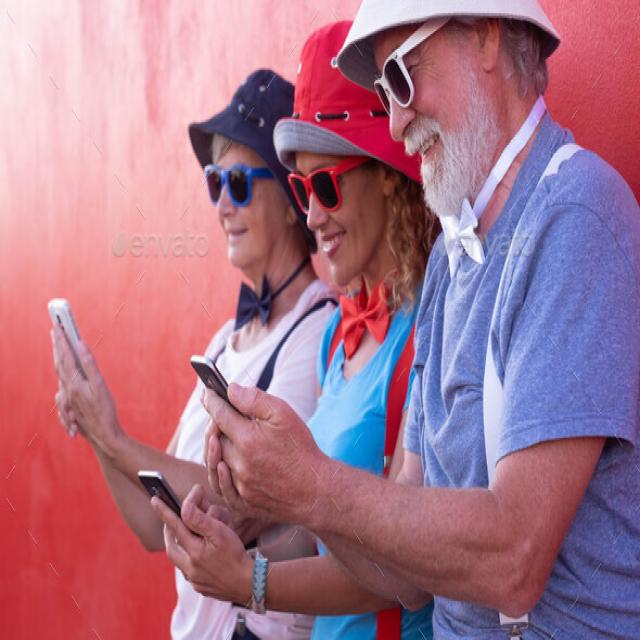hat: (335, 2, 561, 204), (280, 23, 406, 278), (190, 68, 311, 272)
